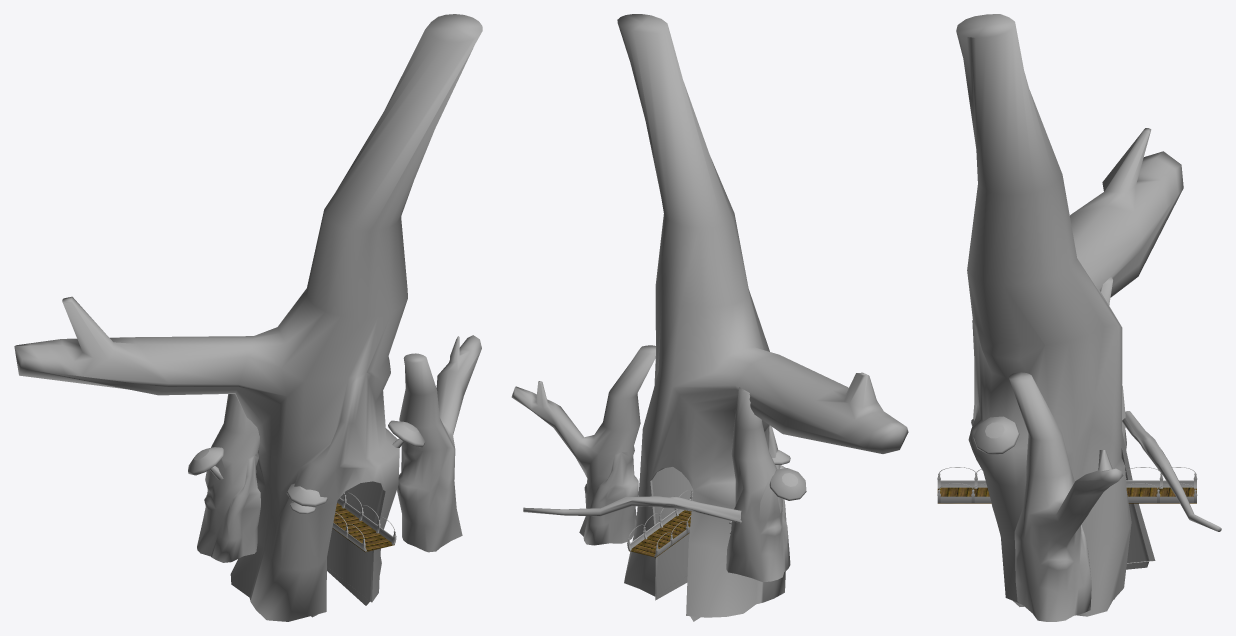
Rendered from fairyland_straight_HoleTree.fbx.
The picture shows the model from 3 angles, left to right: view 1: azimuth 30°, elevation 25°; view 2: azimuth 150°, elevation 25°; view 3: azimuth 270°, elevation 25°; orthographic projection. The views are drawn at different scales.
Visible parts, largest first — view 1: pCylinder7, pCylinder27, pCylinder22, pCube2, pCylinder16, pCylinder53; view 2: pCylinder7, pCylinder27, pCylinder22, pCylinder25, pCube2, pCylinder16; view 3: pCylinder7, pCylinder27, pCylinder25, pCylinder53, pCube2.
Part boxes in pixels (box(x1,y1,x2,y2)): pCylinder7: box(14, 14, 482, 621); pCylinder27: box(397, 335, 481, 552); pCylinder22: box(197, 394, 260, 562); pCube2: box(332, 503, 394, 552); pCylinder16: box(188, 447, 223, 479); pCylinder53: box(388, 420, 425, 447); pCylinder7: box(617, 14, 908, 621); pCylinder27: box(511, 345, 655, 545); pCylinder22: box(726, 387, 790, 582); pCylinder25: box(523, 496, 741, 523); pCube2: box(629, 510, 691, 557); pCylinder16: box(769, 468, 806, 500); pCylinder7: box(956, 14, 1183, 616); pCylinder27: box(1008, 372, 1123, 621); pCylinder25: box(1122, 411, 1221, 531); pCylinder53: box(973, 416, 1019, 454); pCube2: box(937, 487, 1196, 503).
Bounding box in the file's own units: 77.68 × 96.46 × 39.92.
